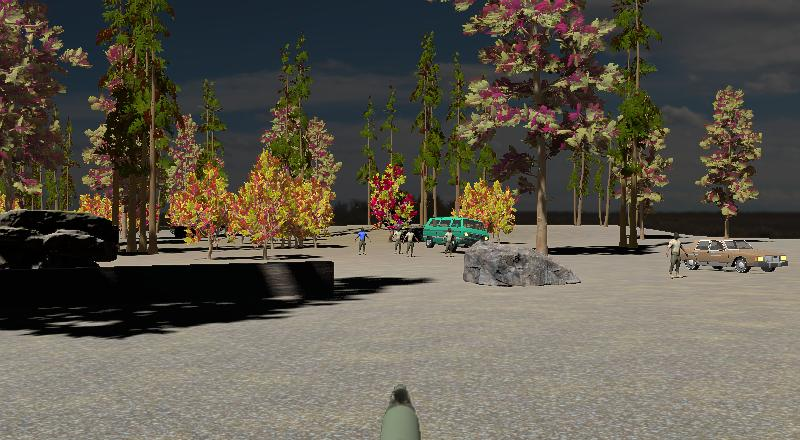Human: (665, 232, 687, 280), (405, 225, 419, 259), (354, 227, 370, 256), (447, 228, 457, 255), (444, 227, 453, 255)
car: (677, 237, 790, 274), (423, 216, 489, 250)
